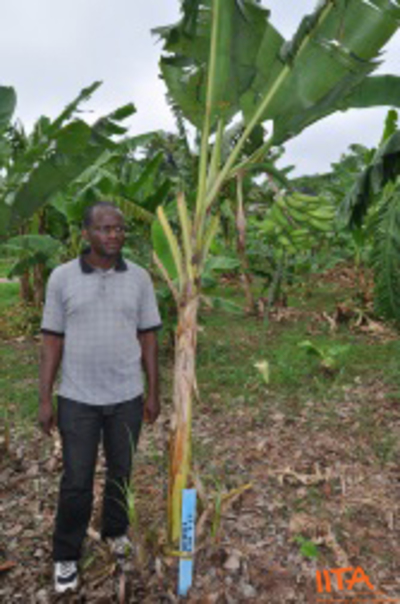bananaHand: (254, 187, 339, 260)
